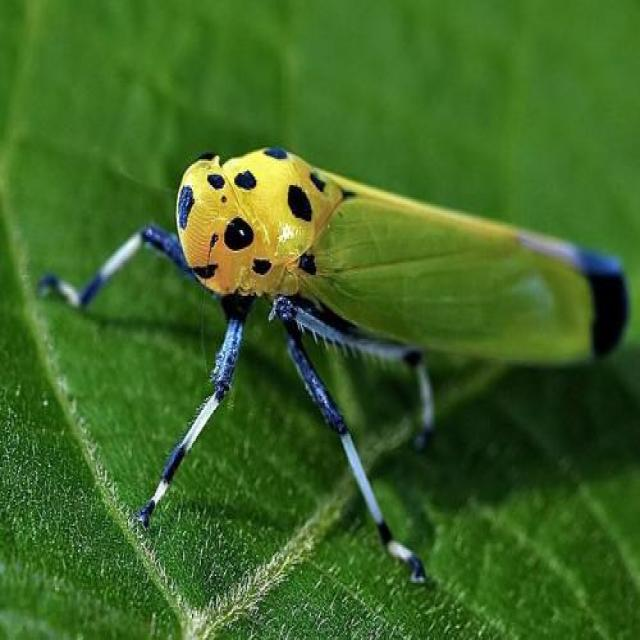Yechan: (34, 138, 636, 591)
